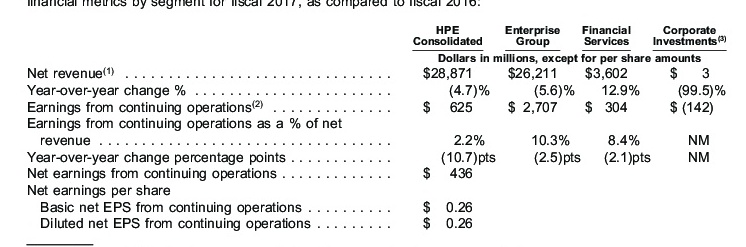table: (0, 0, 746, 247)
